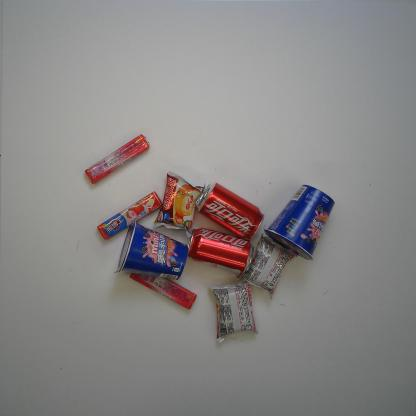Candy: (84, 134, 150, 186), (96, 192, 162, 240), (128, 271, 197, 312)
Dessert: (262, 184, 336, 262), (112, 218, 190, 282), (236, 233, 298, 301), (153, 170, 207, 238), (208, 282, 259, 343)
Drink: (195, 181, 266, 241), (186, 226, 254, 277)
